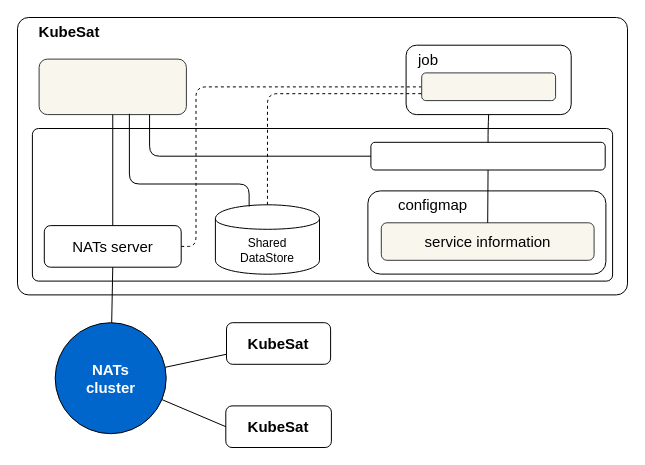
This 645x465 diagram has some shape labels left out. The box of each missing label's shape, as (x1, y1, x2, y2) in pixels:
Kubernetes-API: (370, 141, 605, 170)
resource manager: (38, 58, 186, 115)
service: (421, 72, 556, 101)
